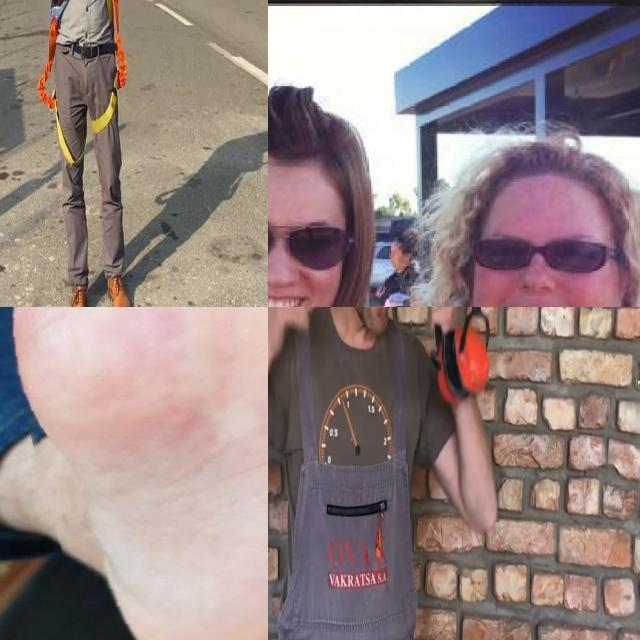Barefoots: (0, 307, 268, 640)
Harness: (37, 0, 79, 164), (90, 0, 127, 134)
face_nomask: (470, 232, 602, 307), (268, 211, 344, 307)
glasses: (471, 230, 614, 280), (268, 207, 350, 278)
head_nohelmet: (467, 143, 632, 215), (268, 99, 368, 188)
person: (388, 135, 640, 307), (268, 95, 428, 307)
